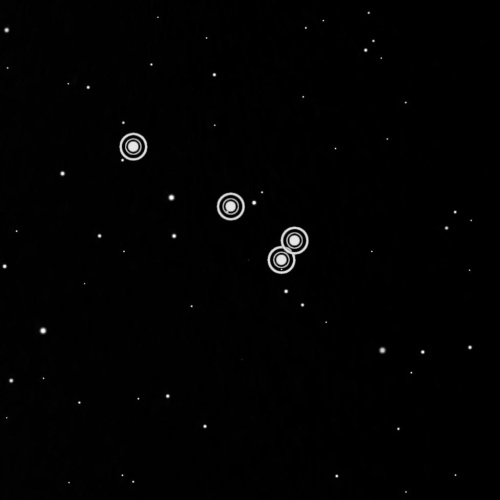sagitta: (109, 126, 323, 284)
